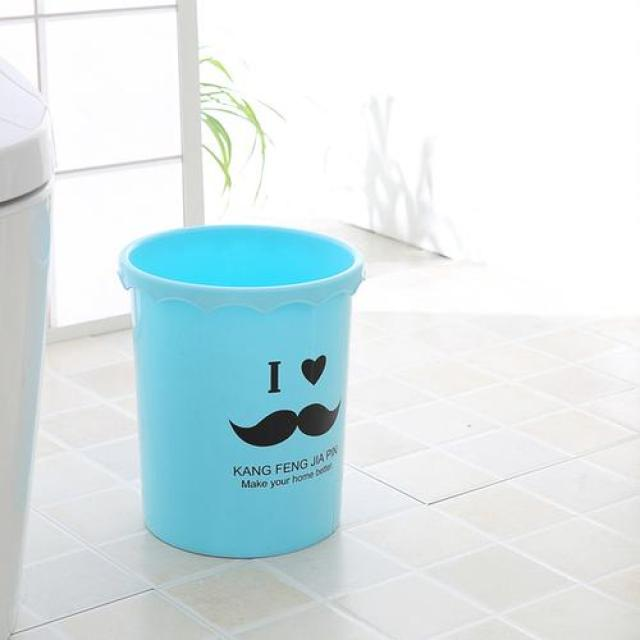dustbin: (115, 216, 374, 565)
